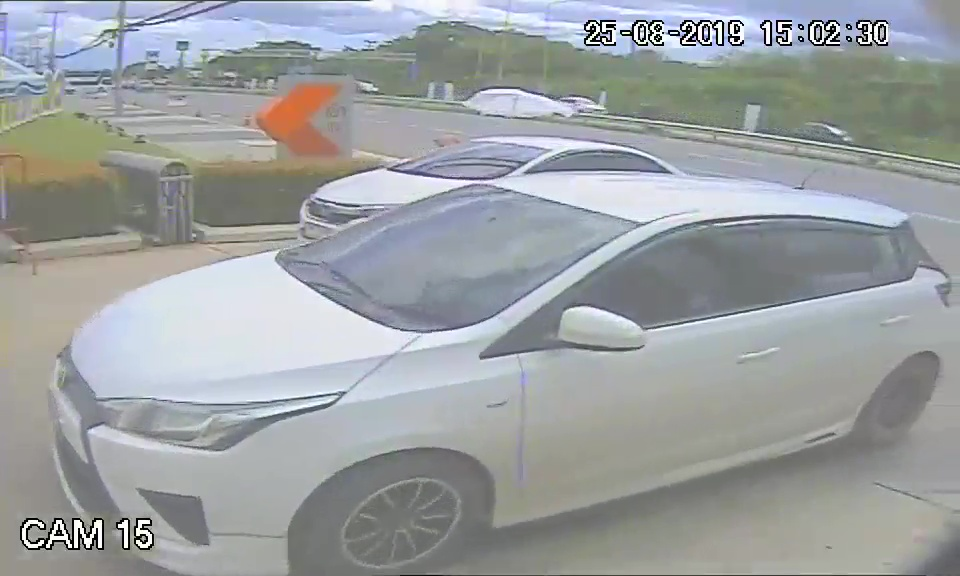sedan: (48, 179, 945, 567)
